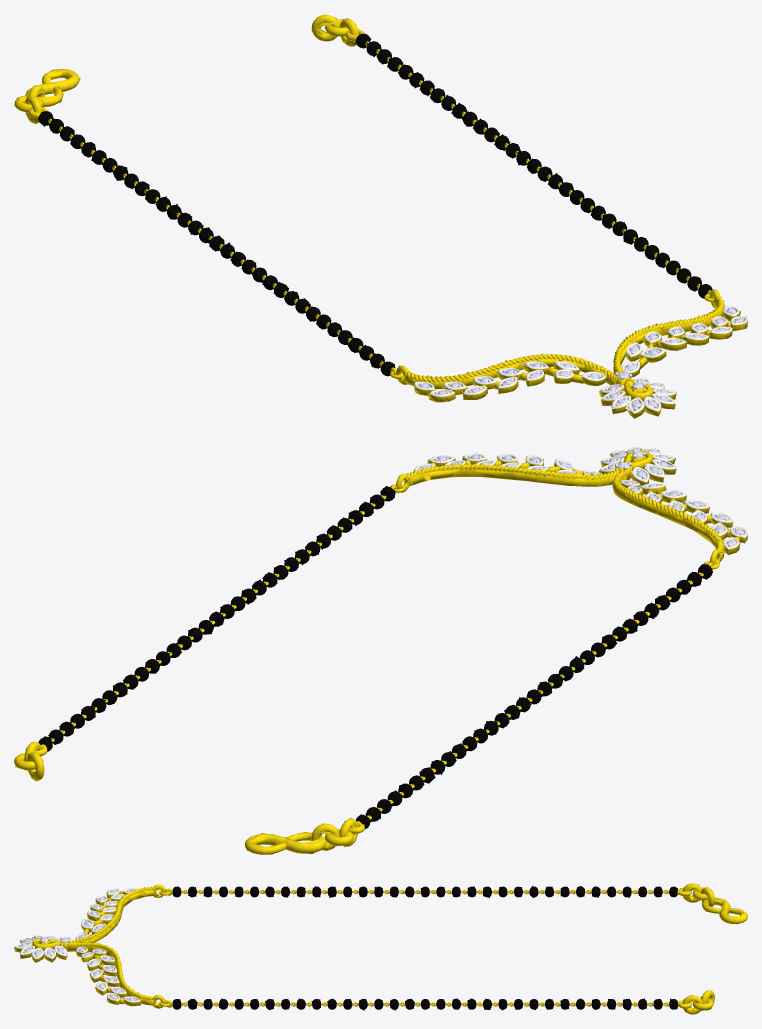
Rendered from DPN-D000621405.glb.
3 renders of one model, top to bottom at view 1: azimuth 30°, elevation 25°; view 2: azimuth 150°, elevation 25°; view 3: azimuth 270°, elevation 25°, orthographic. The views are drawn at different scales.
Parts seen in each view (by area): view 1: highPolyMesh, lowPolyMesh; view 2: highPolyMesh, lowPolyMesh; view 3: highPolyMesh, lowPolyMesh.
Boxes of the visible parts, left/top/right/bottom form: highPolyMesh: left=14, top=15, right=747, bottom=418; lowPolyMesh: left=14, top=14, right=747, bottom=418; highPolyMesh: left=14, top=447, right=747, bottom=854; lowPolyMesh: left=15, top=448, right=747, bottom=854; highPolyMesh: left=14, top=883, right=747, bottom=1014; lowPolyMesh: left=14, top=884, right=747, bottom=1012.
Size of the model in its own units: 0.0548 by 0.00534 by 0.1427.
